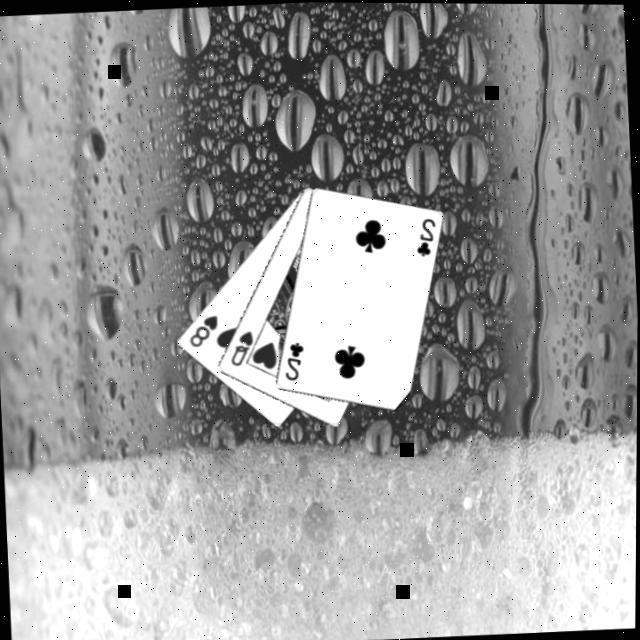2C: (280, 340, 308, 386), (412, 217, 438, 262)
8H: (185, 312, 221, 352)
QH: (226, 330, 256, 371)
